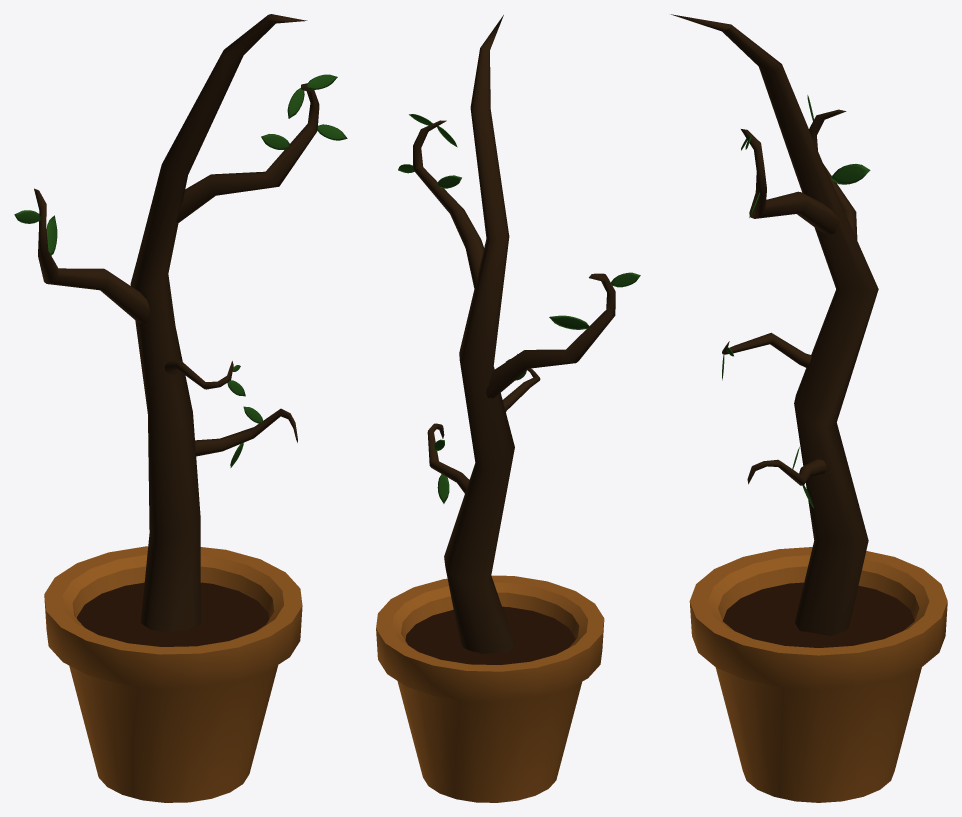
File: Pot Plant.fbx
3 renders of one model, left to right at view 1: azimuth 30°, elevation 25°; view 2: azimuth 150°, elevation 25°; view 3: azimuth 270°, elevation 25°, orthographic. The views are drawn at different scales.
Visible parts, largest first — view 1: pCube71; view 2: pCube71; view 3: pCube71.
Part boxes in pixels (left/top/right/bottom): pCube71: left=14, top=14, right=347, bottom=802; pCube71: left=376, top=15, right=640, bottom=802; pCube71: left=671, top=14, right=947, bottom=802.
Bounding box in the file's own units: 2.14 × 5.32 × 1.71.
